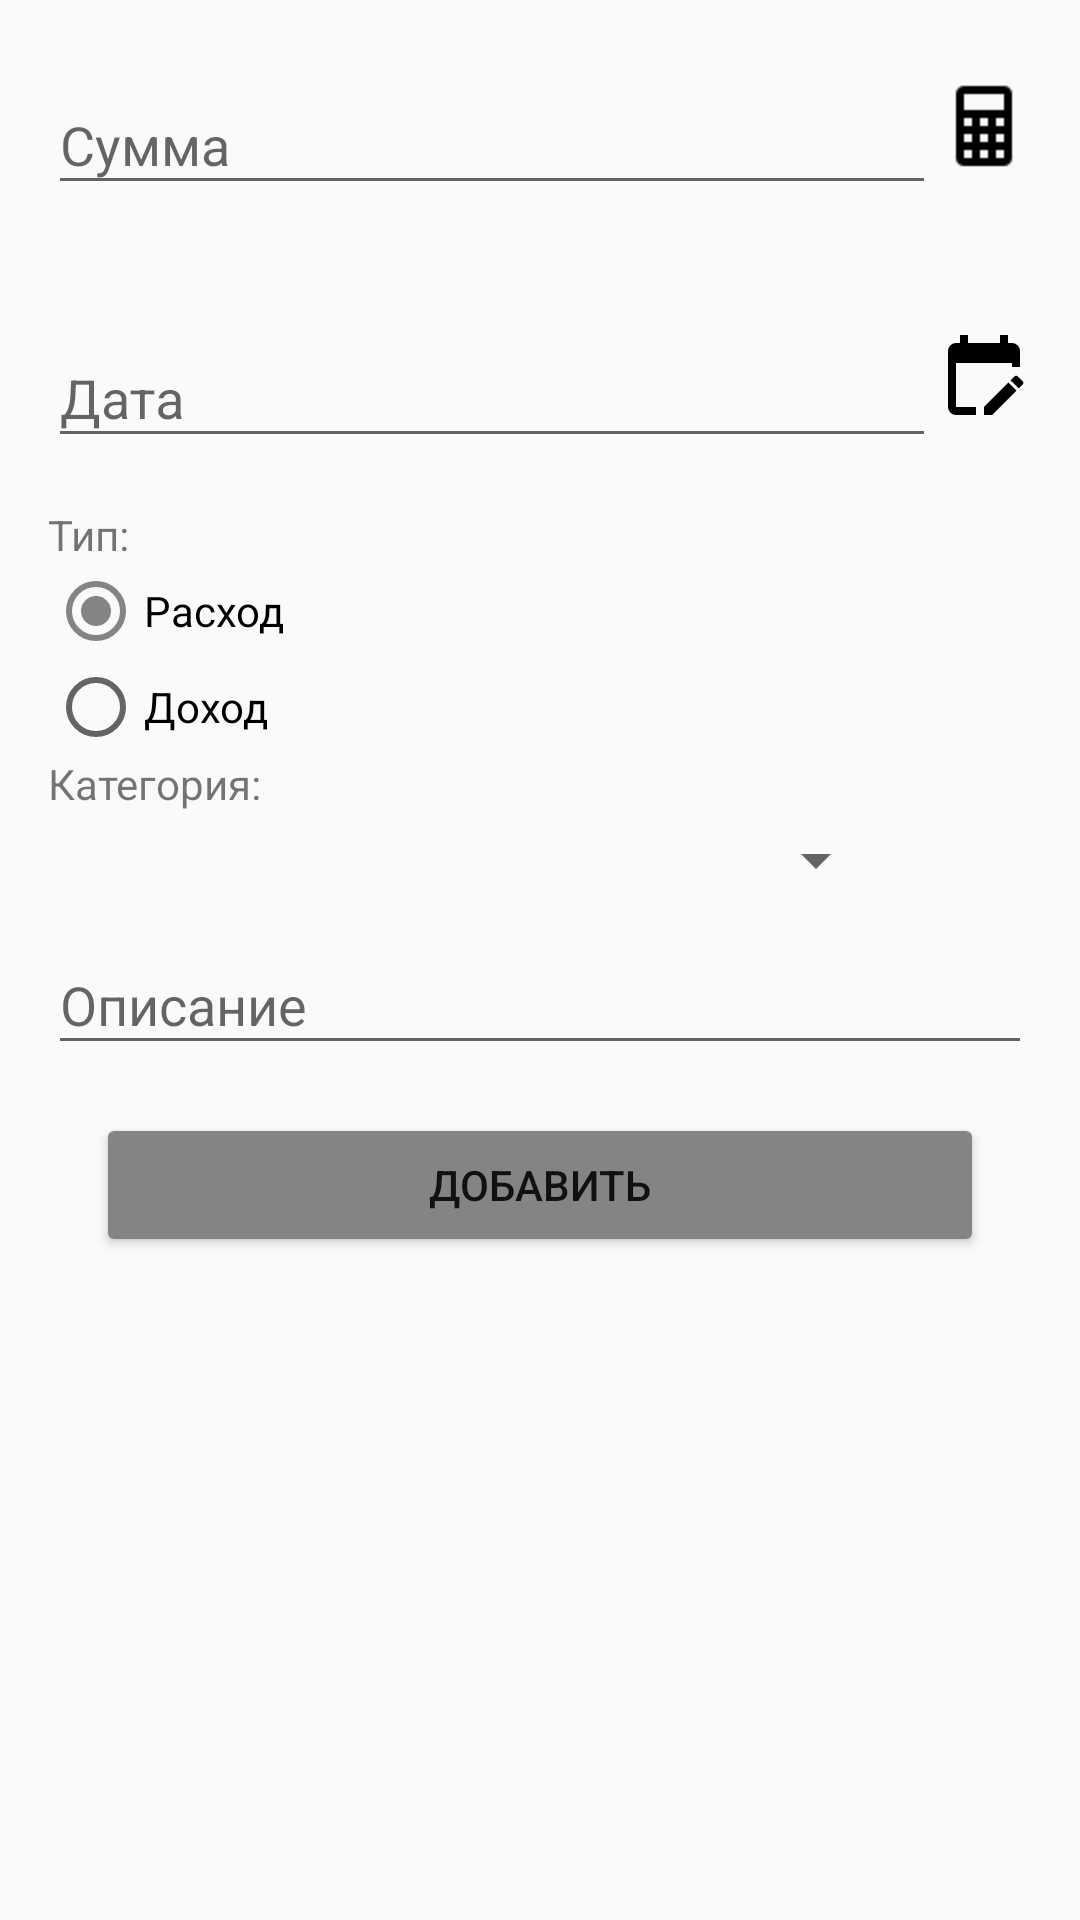

Screen size 1080*1920. Icon name, then its center in pixels as point (x, y):
calculator: point (984, 126)
calendar edit: point (986, 375)
